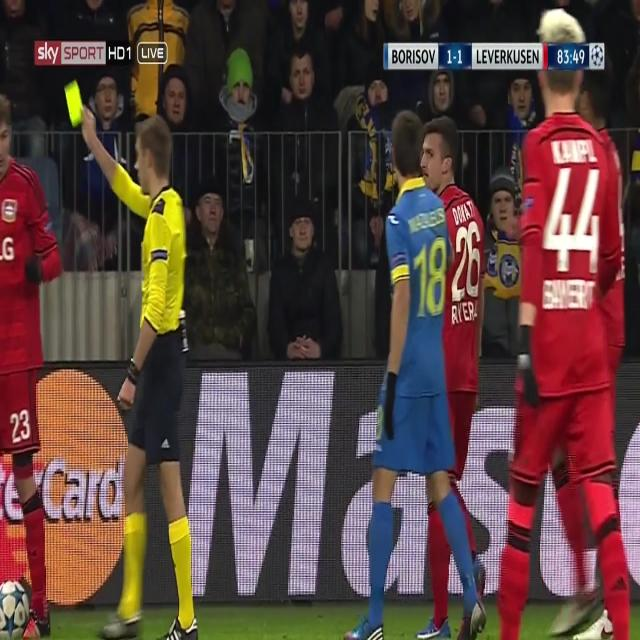Ball: (0, 575, 30, 640)
Player: (497, 8, 631, 639), (344, 108, 491, 640), (0, 92, 63, 640), (422, 112, 487, 638)
Referee: (75, 104, 202, 640)
